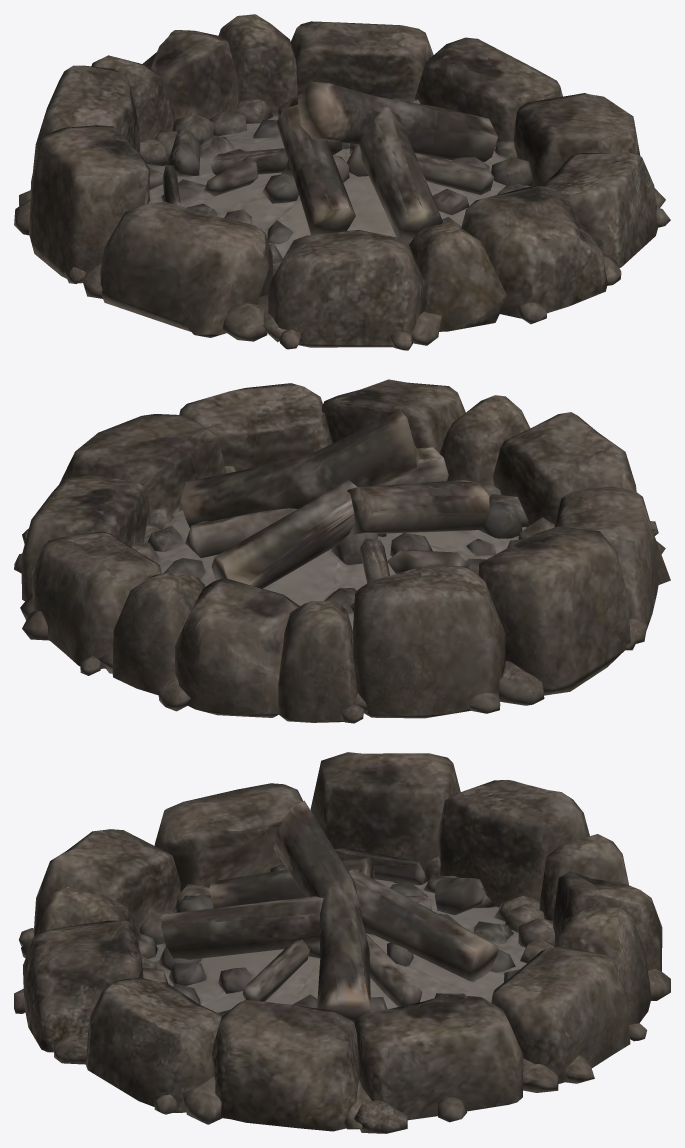
The model's file is p_campfire.glb.
3 renders of one model, top to bottom at view 1: azimuth 30°, elevation 25°; view 2: azimuth 150°, elevation 25°; view 3: azimuth 270°, elevation 25°, orthographic. The views are drawn at different scales.
Visible parts, largest first — view 1: p_campfire; view 2: p_campfire; view 3: p_campfire.
Boxes of the visible parts, x1,y1,x2,y2 form: p_campfire: [14, 14, 670, 350]; p_campfire: [14, 379, 670, 723]; p_campfire: [14, 752, 670, 1133].
Bounding box in the file's own units: 1.48 × 0.45 × 1.48.
1 material, 1 textured.
